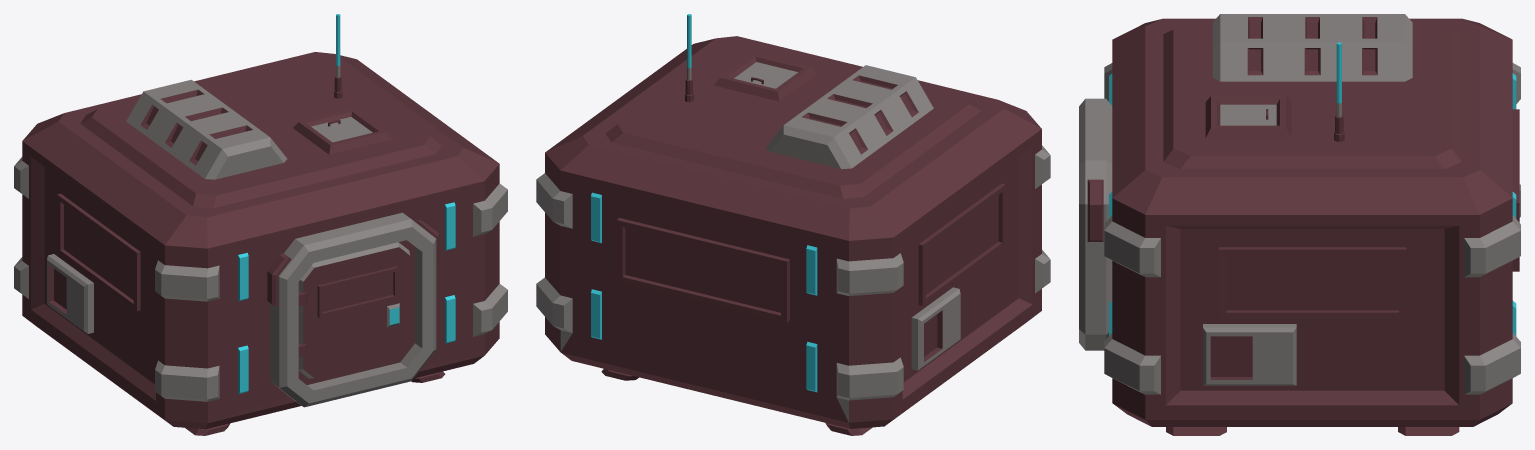
The model's file is scifi-planet-base-room.fbx.
3 renders of one model, left to right at view 1: azimuth 30°, elevation 25°; view 2: azimuth 150°, elevation 25°; view 3: azimuth 270°, elevation 25°, orthographic. The views are drawn at different scales.
Parts seen in each view (by area): view 1: scifi-planet-base-room; view 2: scifi-planet-base-room; view 3: scifi-planet-base-room.
Boxes of the visible parts, <box> form: scifi-planet-base-room: <box>14,14,507,435</box>; scifi-planet-base-room: <box>536,14,1050,435</box>; scifi-planet-base-room: <box>1079,14,1520,435</box>.
Bounding box in the file's own units: 7.04 × 6.14 × 6.62.
